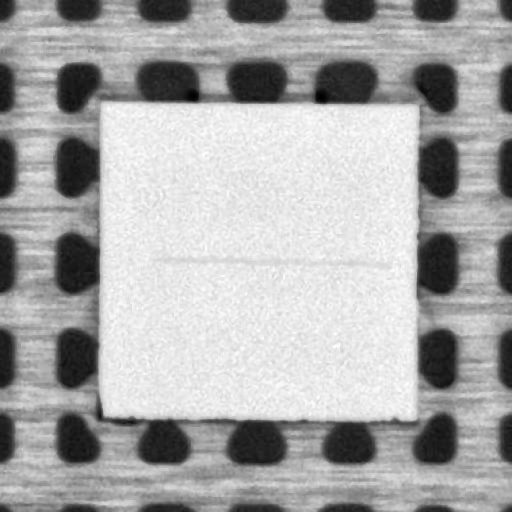DIE_CRACK: (155, 259, 388, 264)
